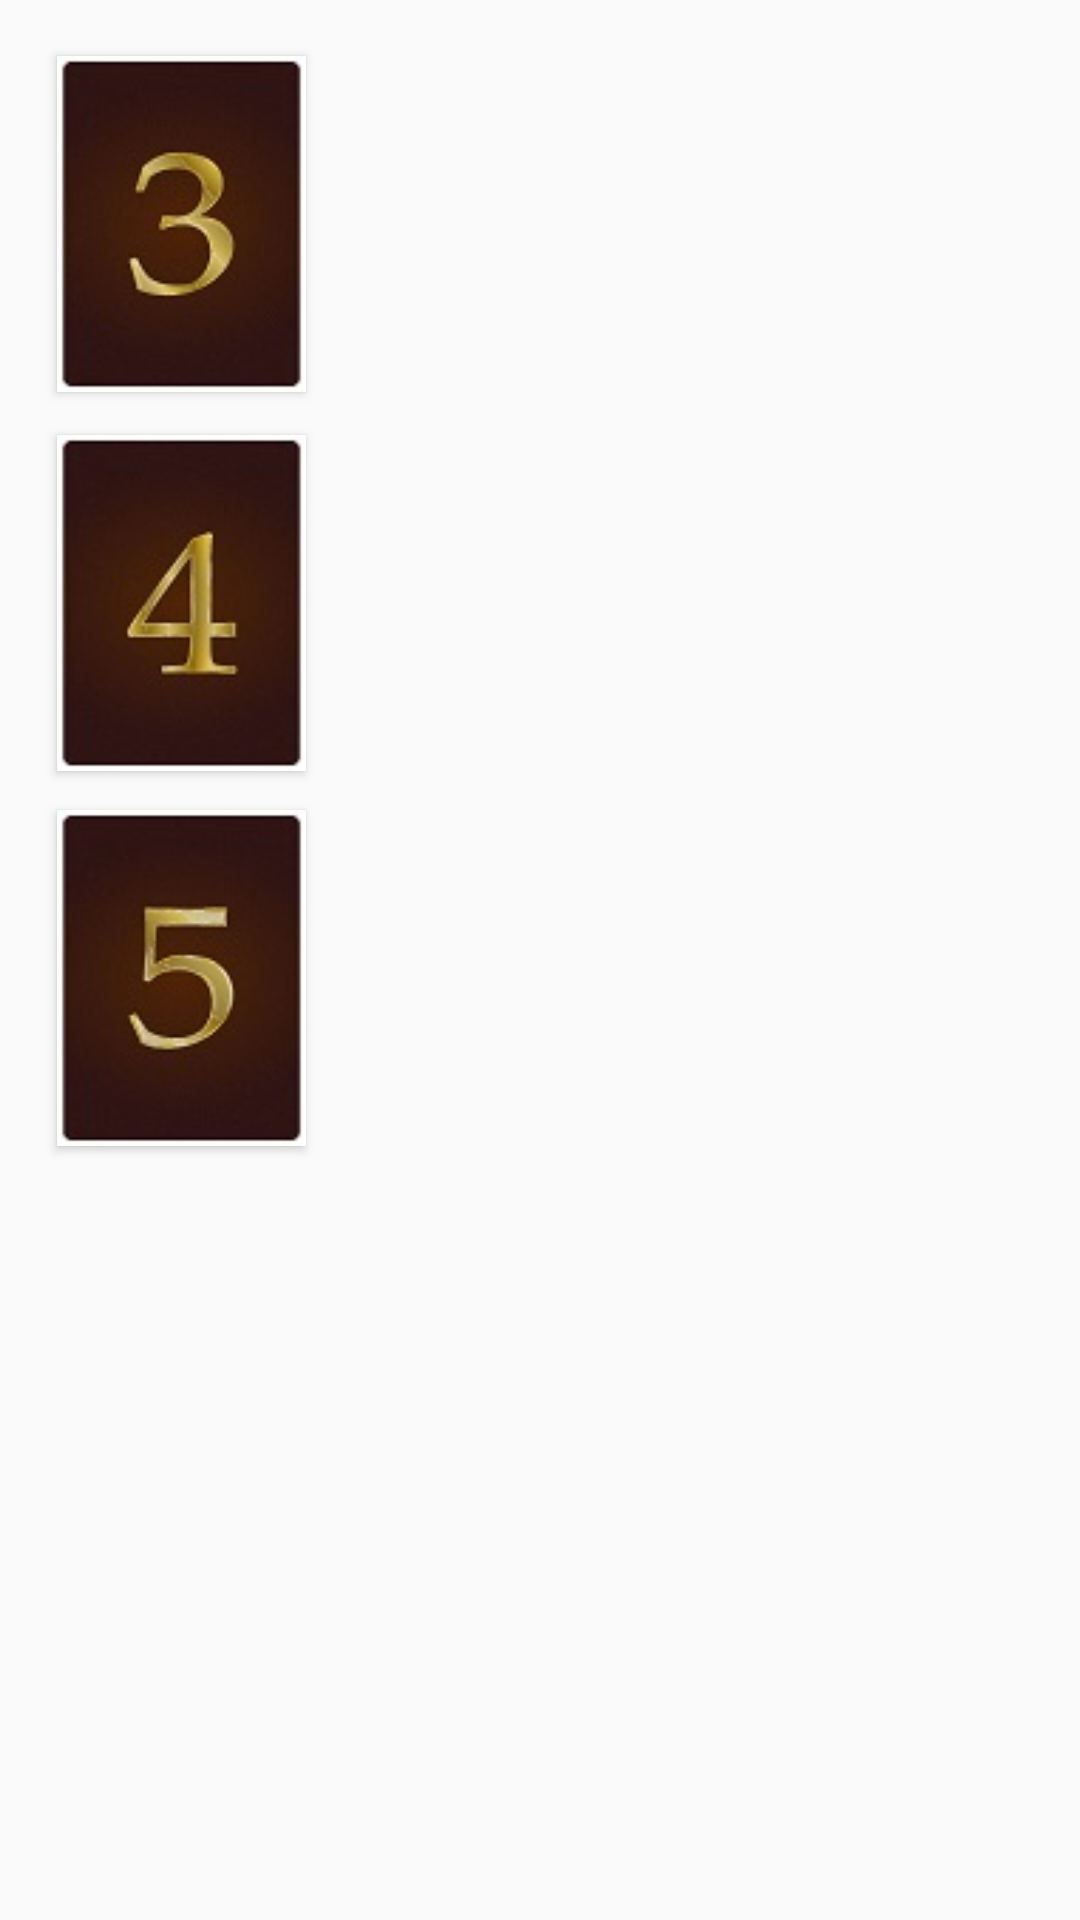

Named icons in this screenshot (1080w x 1920h) and their bounding boxes, [x1,y1,x2,y2]:
carte: [62,61,301,387], [62,440,301,766], [62,815,301,1141]
